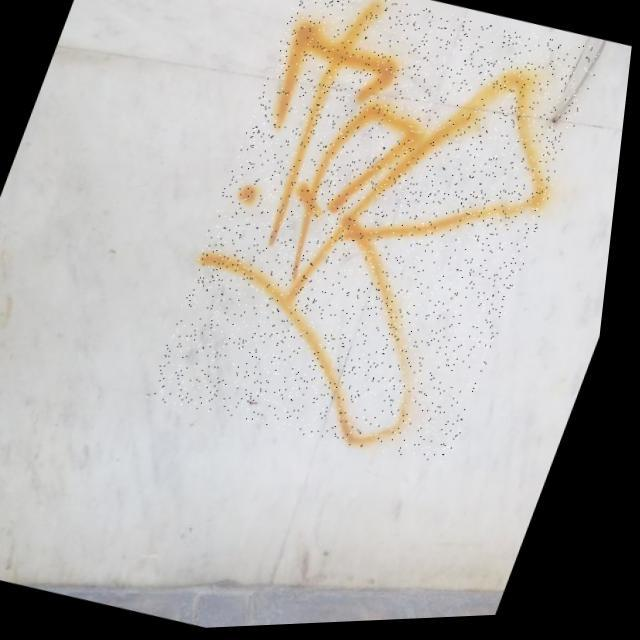-: (147, 0, 612, 483)
